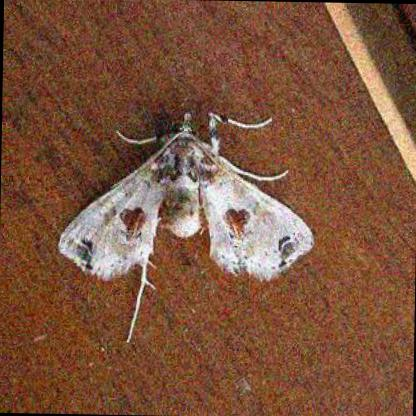leucinodes: (55, 110, 312, 291)
